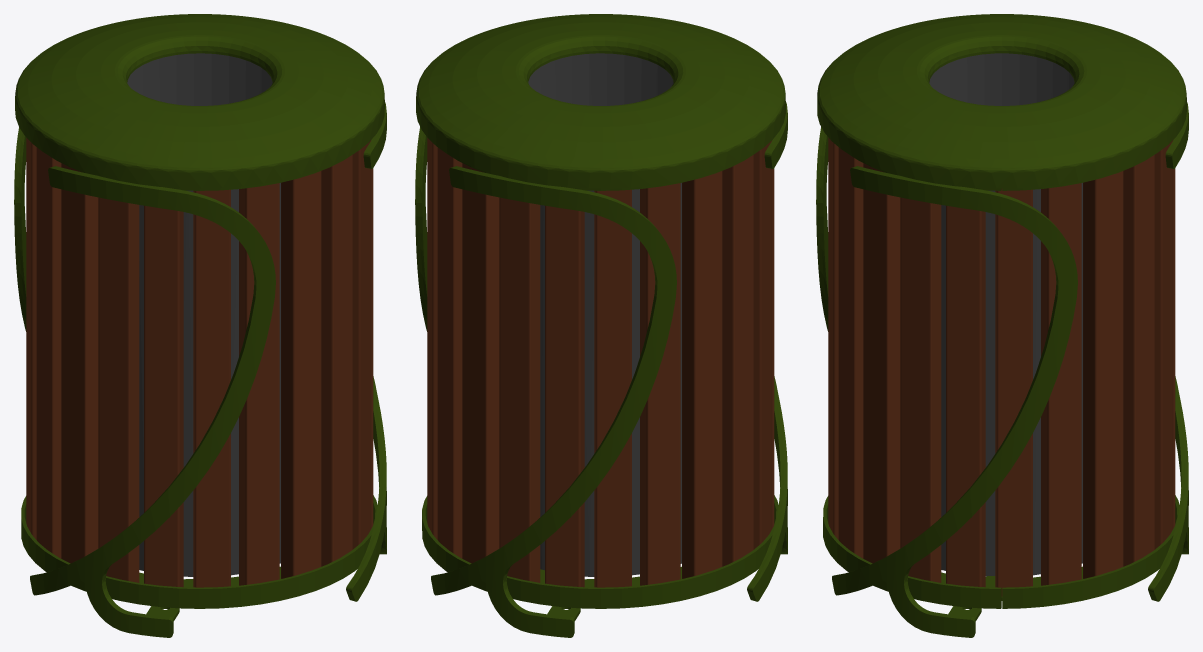
3 renders of one model, left to right at view 1: azimuth 30°, elevation 25°; view 2: azimuth 150°, elevation 25°; view 3: azimuth 270°, elevation 25°, orthographic.
Parts seen in each view (by area): view 1: mesh4.002_mesh4-geometry, mesh82.005_mesh82-geometry, mesh1.022_mesh1-geometry, mesh1.027_mesh1-geometry, mesh99.002_mesh99-geometry, mesh1.026_mesh1-geometry, mesh1.028_mesh1-geometry, mesh1.023_mesh1-geometry, mesh1.030_mesh1-geometry, mesh1.029_mesh1-geometry, mesh1.042_mesh1-geometry, mesh1.024_mesh1-geometry (+5 smaller); view 2: mesh4.002_mesh4-geometry, mesh82.004_mesh82-geometry, mesh1.041_mesh1-geometry, mesh1.037_mesh1-geometry, mesh99.002_mesh99-geometry, mesh1.036_mesh1-geometry, mesh1.038_mesh1-geometry, mesh1.042_mesh1-geometry, mesh1.040_mesh1-geometry, mesh1.039_mesh1-geometry, mesh1.035_mesh1-geometry, mesh1.026_mesh1-geometry (+5 smaller); view 3: mesh4.002_mesh4-geometry, mesh82.006_mesh82-geometry, mesh1.034_mesh1-geometry, mesh1.025_mesh1-geometry, mesh99.002_mesh99-geometry, mesh1.024_mesh1-geometry, mesh1.031_mesh1-geometry, mesh1.035_mesh1-geometry, mesh1.032_mesh1-geometry, mesh1.033_mesh1-geometry, mesh1.023_mesh1-geometry, mesh1.036_mesh1-geometry (+5 smaller).
Boxes of the visible parts, left/top/right/bottom form: mesh4.002_mesh4-geometry: left=15, top=14, right=384, bottom=188; mesh82.005_mesh82-geometry: left=30, top=166, right=275, bottom=637; mesh1.022_mesh1-geometry: left=281, top=171, right=321, bottom=578; mesh1.027_mesh1-geometry: left=98, top=197, right=139, bottom=582; mesh99.002_mesh99-geometry: left=127, top=53, right=280, bottom=576; mesh1.026_mesh1-geometry: left=61, top=163, right=98, bottom=563; mesh1.028_mesh1-geometry: left=144, top=205, right=183, bottom=587; mesh1.023_mesh1-geometry: left=321, top=155, right=352, bottom=566; mesh1.030_mesh1-geometry: left=239, top=183, right=279, bottom=585; mesh1.029_mesh1-geometry: left=193, top=189, right=230, bottom=587; mesh1.042_mesh1-geometry: left=36, top=147, right=61, bottom=558; mesh1.024_mesh1-geometry: left=352, top=141, right=370, bottom=549; mesh4.002_mesh4-geometry: left=416, top=14, right=785, bottom=188; mesh82.004_mesh82-geometry: left=431, top=166, right=676, bottom=637; mesh1.041_mesh1-geometry: left=682, top=171, right=722, bottom=578; mesh1.037_mesh1-geometry: left=499, top=197, right=540, bottom=582; mesh99.002_mesh99-geometry: left=528, top=53, right=681, bottom=576; mesh1.036_mesh1-geometry: left=462, top=163, right=499, bottom=563; mesh1.038_mesh1-geometry: left=545, top=205, right=584, bottom=587; mesh1.042_mesh1-geometry: left=722, top=155, right=753, bottom=566; mesh1.040_mesh1-geometry: left=640, top=183, right=680, bottom=585; mesh1.039_mesh1-geometry: left=594, top=189, right=631, bottom=587; mesh1.035_mesh1-geometry: left=437, top=147, right=462, bottom=558; mesh1.026_mesh1-geometry: left=753, top=141, right=771, bottom=549; mesh4.002_mesh4-geometry: left=817, top=14, right=1186, bottom=188; mesh82.006_mesh82-geometry: left=832, top=166, right=1077, bottom=637; mesh1.034_mesh1-geometry: left=1083, top=171, right=1123, bottom=578; mesh1.025_mesh1-geometry: left=900, top=197, right=941, bottom=582; mesh99.002_mesh99-geometry: left=929, top=53, right=1082, bottom=576; mesh1.024_mesh1-geometry: left=863, top=163, right=900, bottom=563; mesh1.031_mesh1-geometry: left=946, top=205, right=985, bottom=587; mesh1.035_mesh1-geometry: left=1123, top=155, right=1154, bottom=566; mesh1.032_mesh1-geometry: left=995, top=189, right=1032, bottom=596; mesh1.033_mesh1-geometry: left=1041, top=183, right=1081, bottom=585; mesh1.023_mesh1-geometry: left=838, top=147, right=863, bottom=558; mesh1.036_mesh1-geometry: left=1154, top=141, right=1172, bottom=549.
Size of the model in its own units: 0.4951 by 0.7149 by 0.4937.
